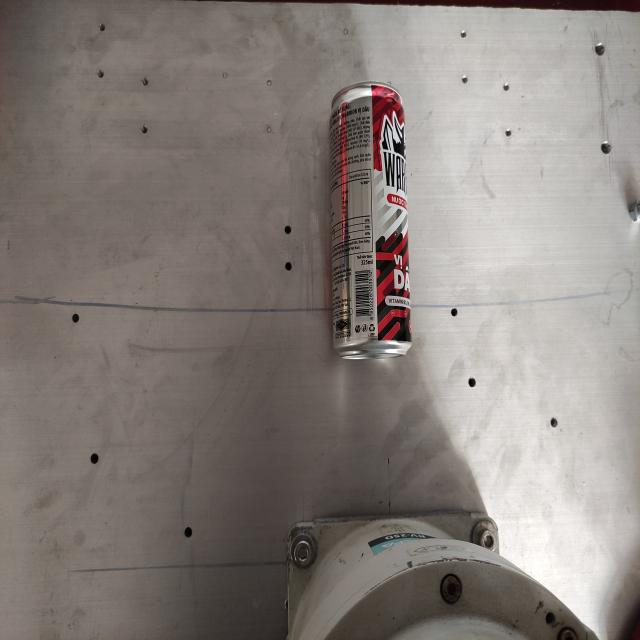metal: (328, 81, 411, 360)
